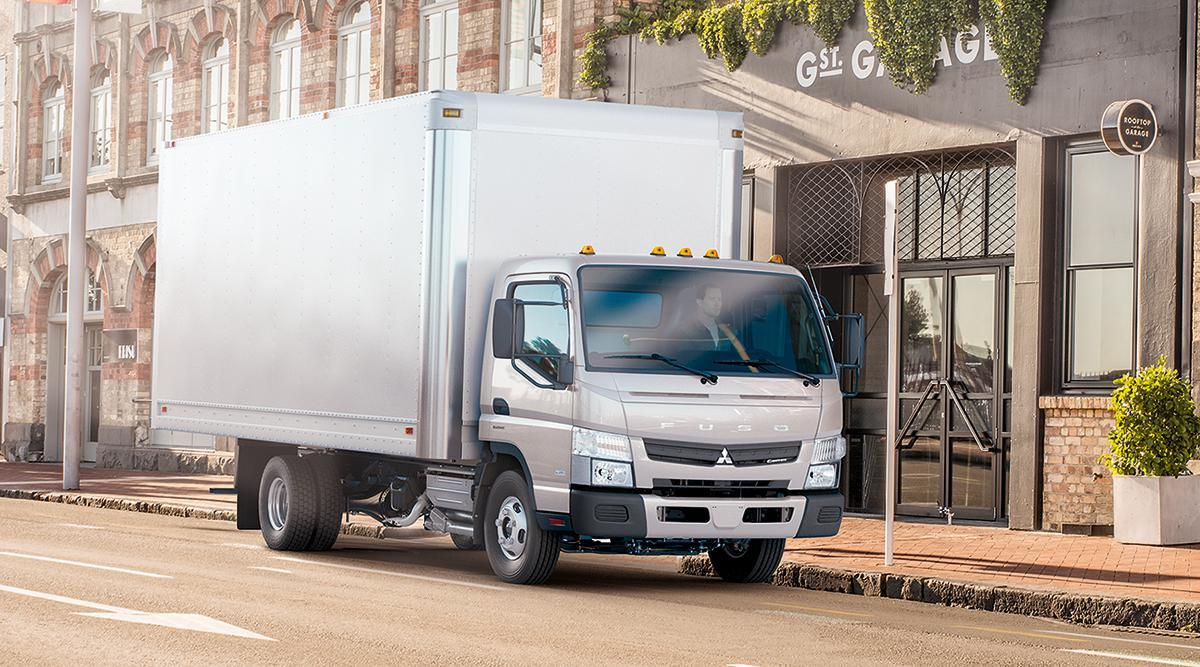truck: (156, 88, 845, 589)
